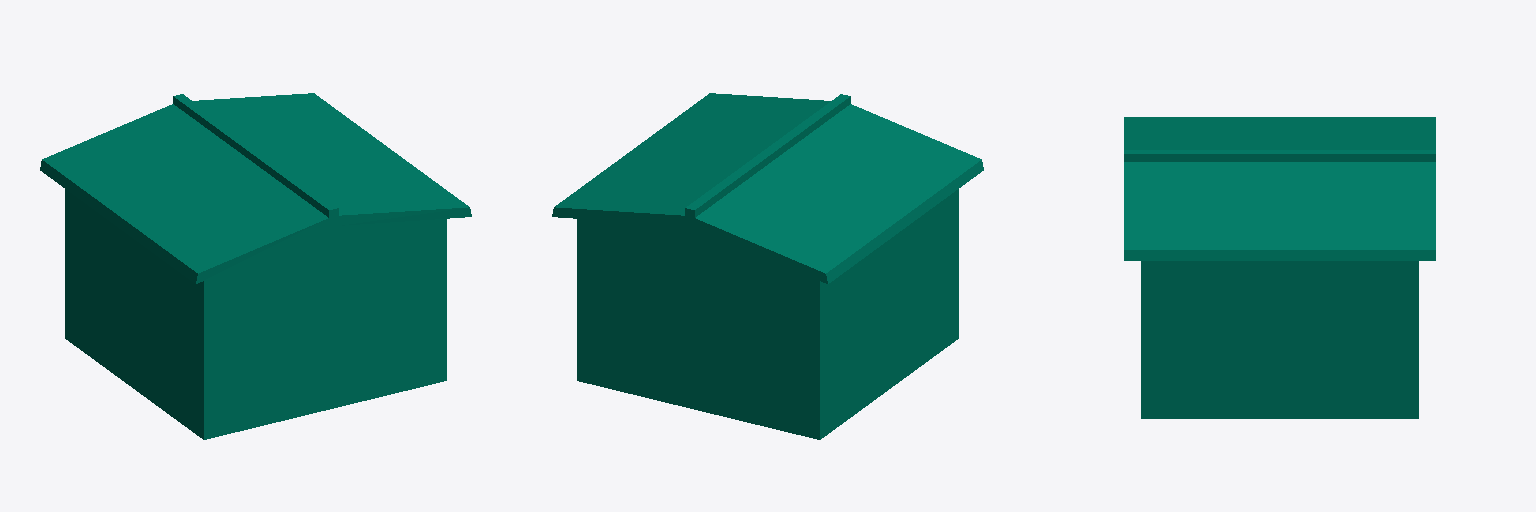
The model's file is SmallHouse.obj.
3 renders of one model, left to right at view 1: azimuth 30°, elevation 25°; view 2: azimuth 150°, elevation 25°; view 3: azimuth 270°, elevation 25°, orthographic.
Visible parts, largest first — view 1: Box001; view 2: Box001; view 3: Box001.
Boxes of the visible parts, box(x1,y1,x2,y2) form: Box001: box(40, 93, 471, 439); Box001: box(552, 93, 983, 439); Box001: box(1124, 117, 1435, 418).
Bounding box in the file's own units: 56.53 × 40.62 × 55.33.